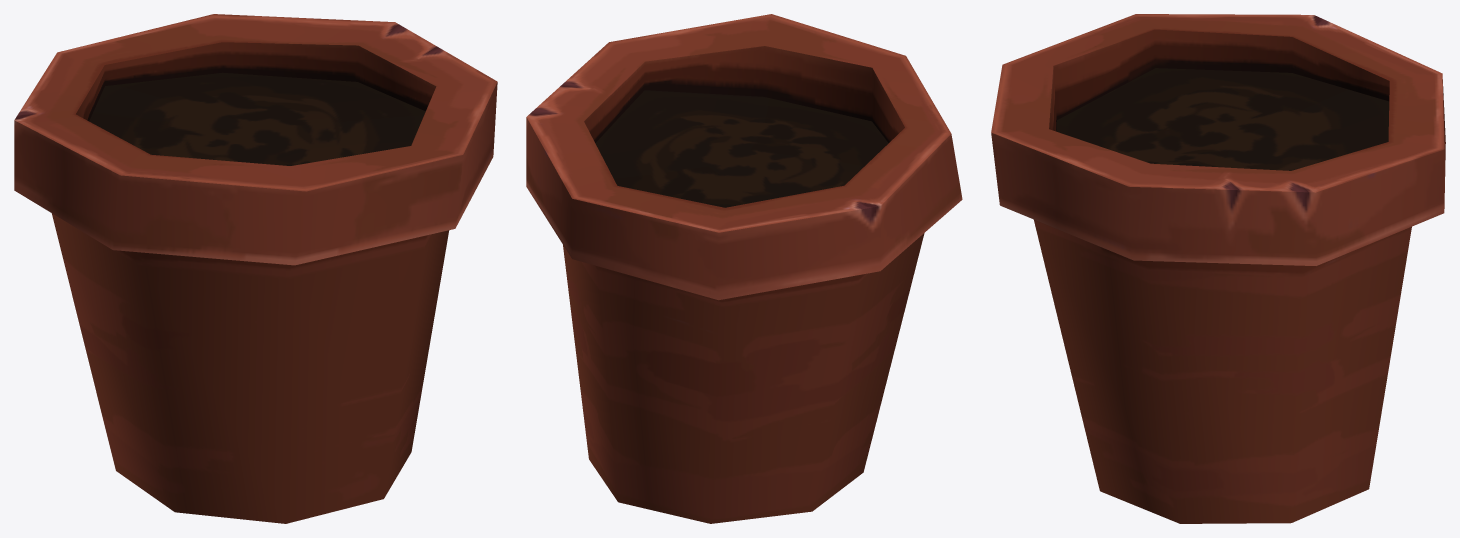
Rendered from SM_PROP_plantpot_interior_02.fbx.
3 renders of one model, left to right at view 1: azimuth 30°, elevation 25°; view 2: azimuth 150°, elevation 25°; view 3: azimuth 270°, elevation 25°, orthographic. The views are drawn at different scales.
Parts seen in each view (by area): view 1: SM_PROP_plantpot_interior_02; view 2: SM_PROP_plantpot_interior_02; view 3: SM_PROP_plantpot_interior_02.
Boxes of the visible parts, <box> form: SM_PROP_plantpot_interior_02: <box>14,14,497,523</box>; SM_PROP_plantpot_interior_02: <box>526,14,962,523</box>; SM_PROP_plantpot_interior_02: <box>991,14,1445,523</box>.
Bounding box in the file's own units: 27.7 × 25.85 × 28.8.
